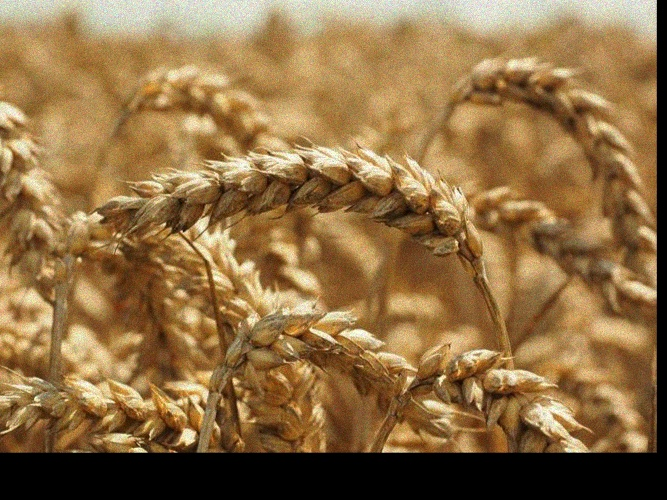wheat: (213, 302, 580, 452), (73, 140, 484, 273)
